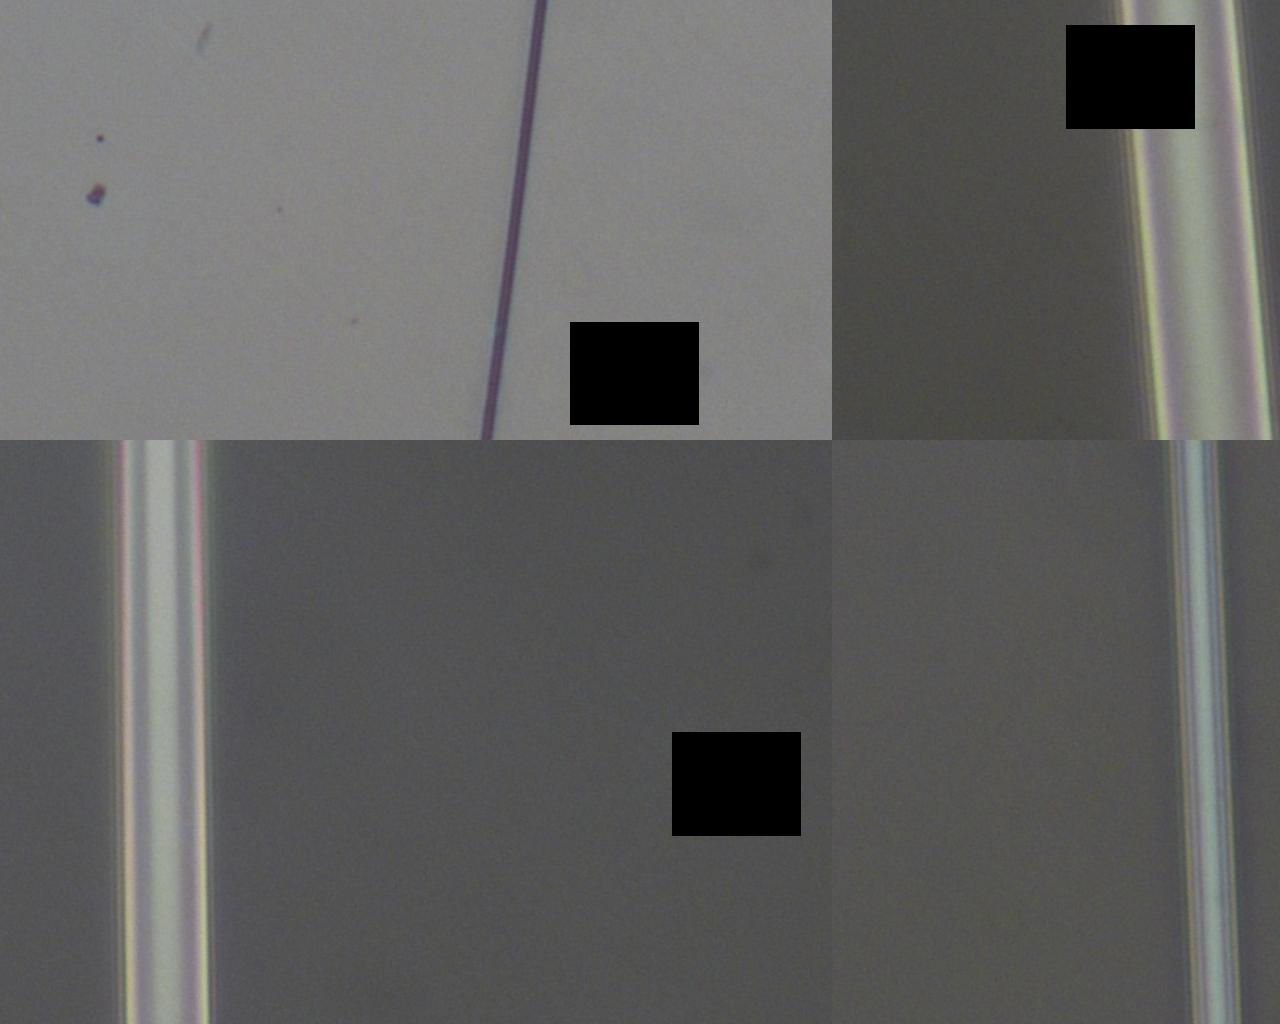fiber: (1113, 0, 1274, 440), (115, 440, 210, 1024), (1164, 440, 1244, 1024), (478, 0, 549, 440)
